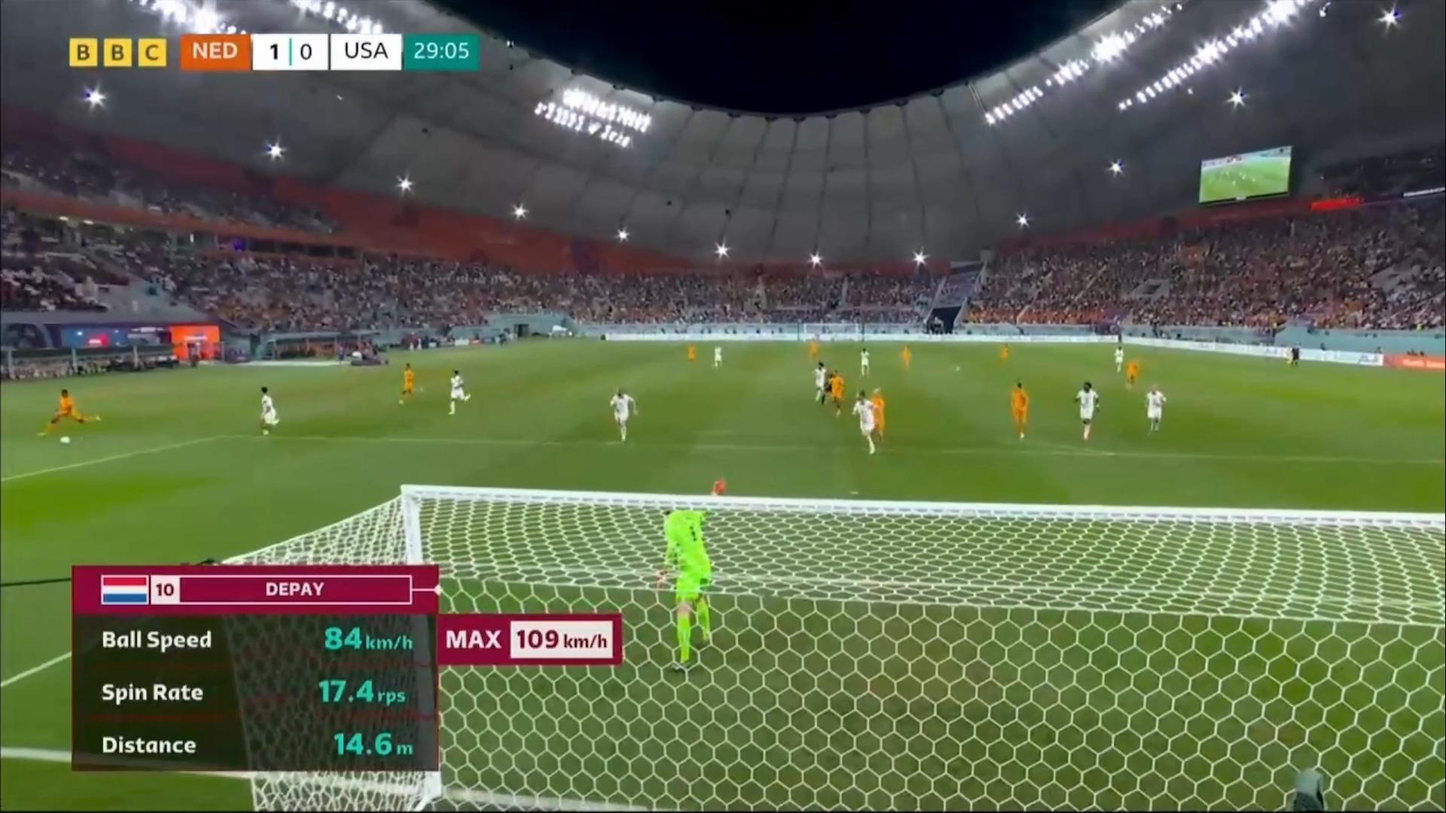Ball: (60, 434, 71, 446)
Player: (657, 502, 715, 666), (34, 388, 102, 438), (1072, 378, 1106, 442), (1004, 380, 1038, 443), (607, 386, 638, 449), (860, 389, 889, 456), (255, 382, 284, 438), (823, 366, 853, 419), (1142, 382, 1170, 435), (446, 366, 474, 415), (810, 361, 835, 409), (394, 363, 421, 407), (1124, 353, 1149, 395), (899, 342, 917, 377), (807, 337, 826, 369), (856, 345, 873, 378), (683, 340, 702, 366), (997, 341, 1014, 366), (1113, 344, 1126, 375), (712, 344, 726, 369)
Ref: (819, 367, 837, 405), (1289, 340, 1301, 367)
